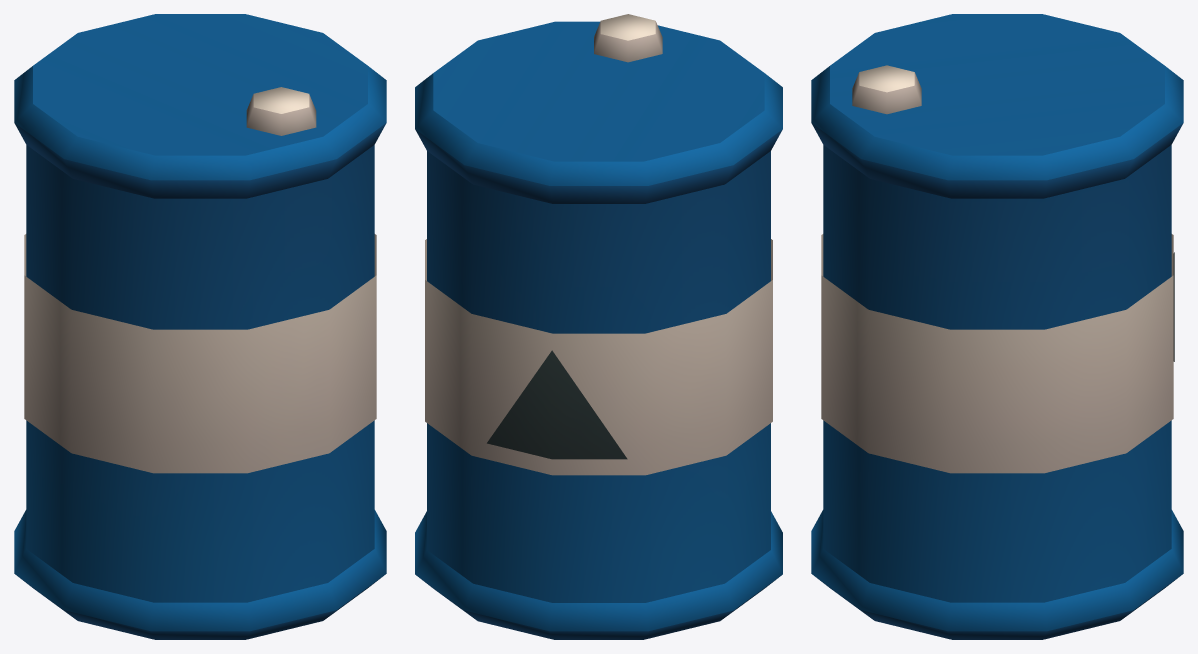
File: Barrel_1B.fbx
3 renders of one model, left to right at view 1: azimuth 30°, elevation 25°; view 2: azimuth 150°, elevation 25°; view 3: azimuth 270°, elevation 25°, orthographic.
Visible parts, largest first — view 1: Barrel_1B; view 2: Barrel_1B; view 3: Barrel_1B.
Part boxes in pixels (x1,y1,x2,y2): Barrel_1B: (14, 14, 386, 639); Barrel_1B: (415, 14, 782, 639); Barrel_1B: (811, 14, 1183, 639).
Size of the model in its own units: 0.8369 by 1.25 by 0.8369.
